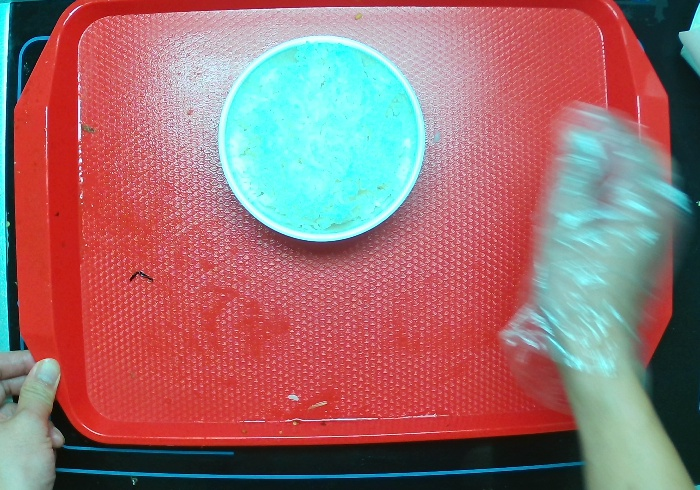YKMZ-Fan_Wan: (216, 34, 428, 249)
